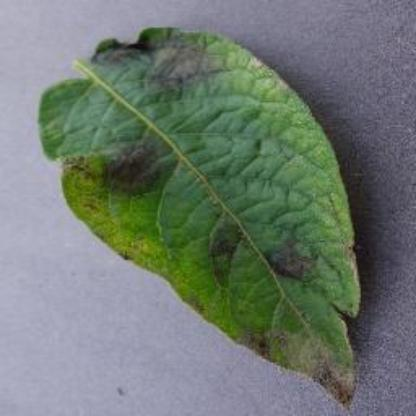Late-Blight: (38, 0, 388, 408)
